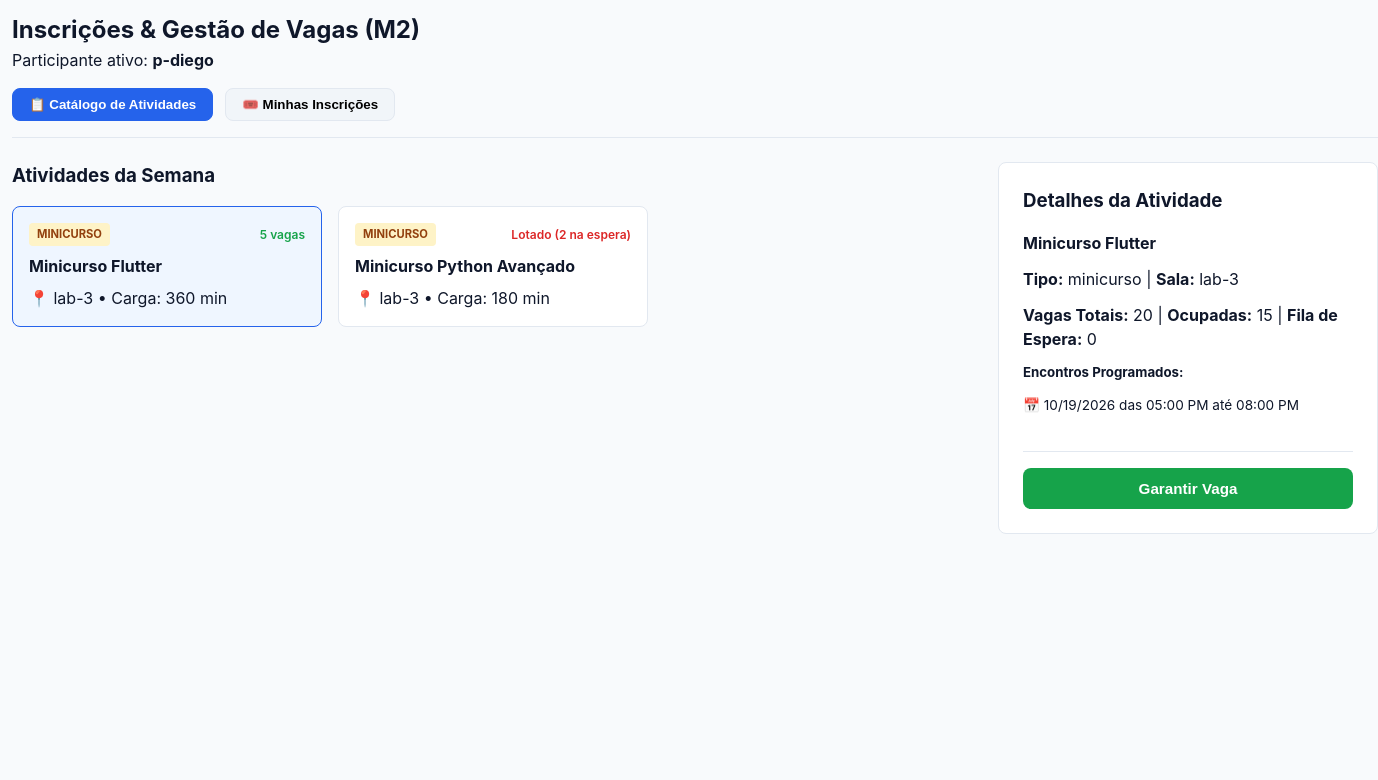
it: M2 — Tela de Inscrições e Gestão de Vagas › permite inscrever participante em atividade com vaga livre
Expected: the element with test id "card-atividade-atv_1" is shown, [12, 206, 322, 327]
Click the button with test id "btn-inscrever": (1188, 489) [1023, 468, 1353, 509]
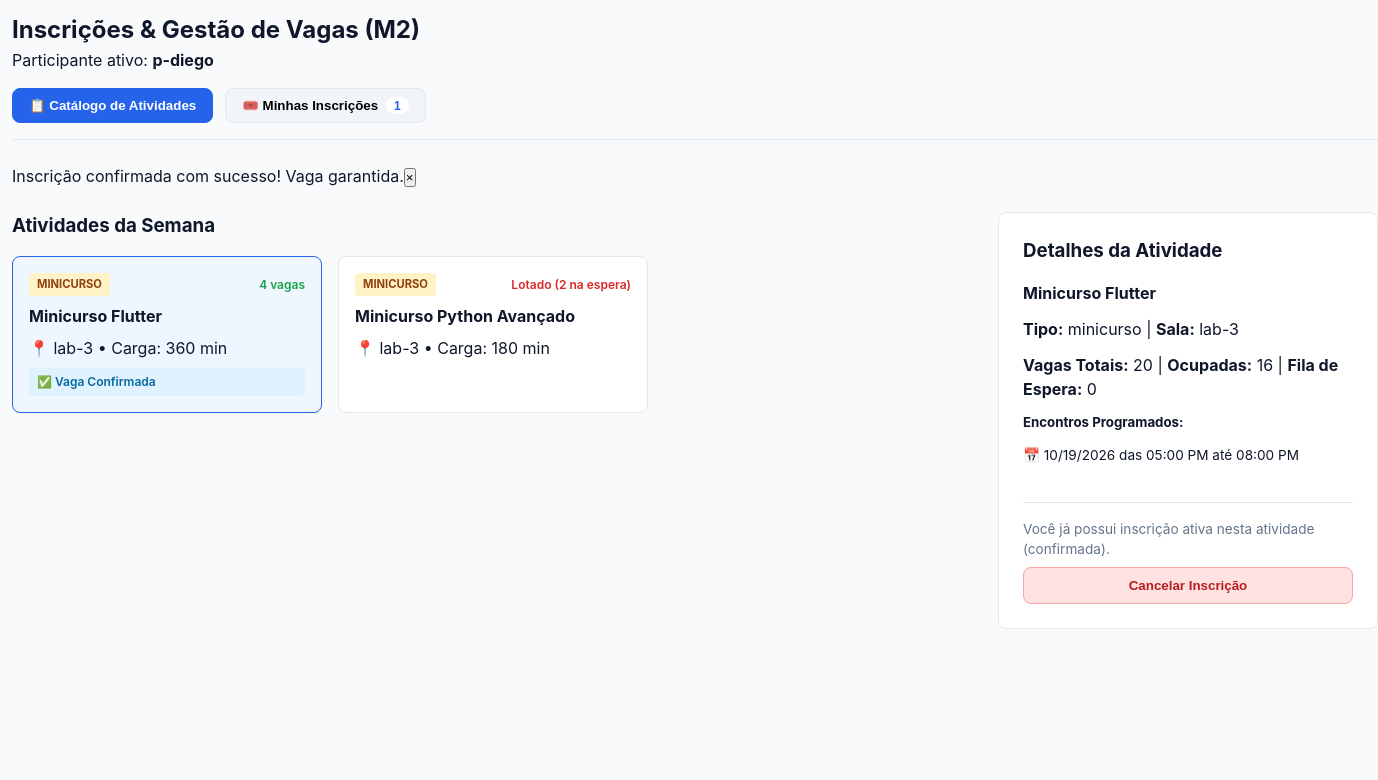
Now the element with test id "feedback-inscricao" shows "Inscrição confirmada com sucesso!", box [12, 166, 404, 186]
